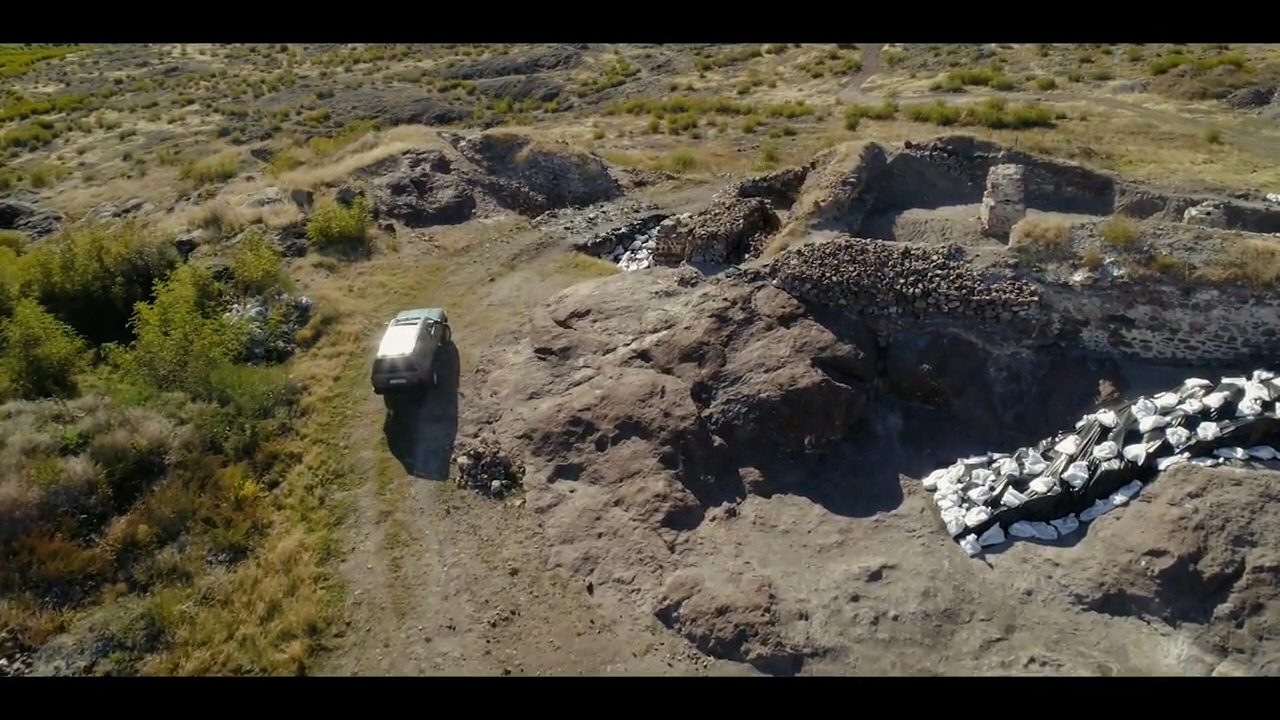araba: (370, 304, 449, 393)
